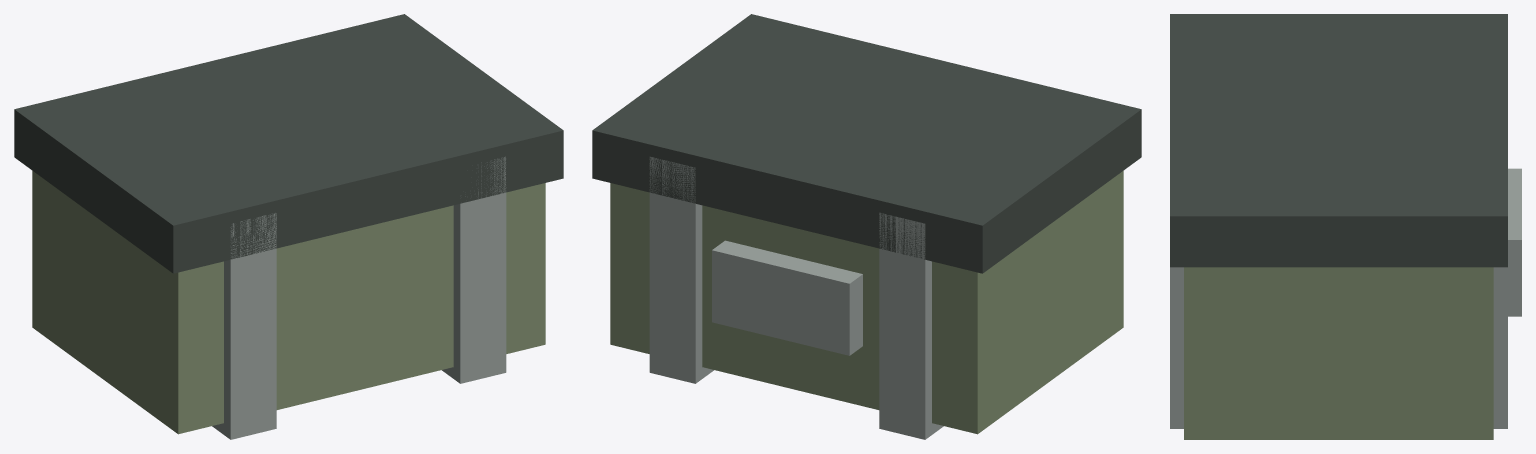
Rendered from crate.gltf.
The picture shows the model from 3 angles, left to right: view 1: azimuth 30°, elevation 25°; view 2: azimuth 150°, elevation 25°; view 3: azimuth 270°, elevation 25°; orthographic projection. The views are drawn at different scales.
Size of the model in its own units: 17 by 9.5 by 12.5.
